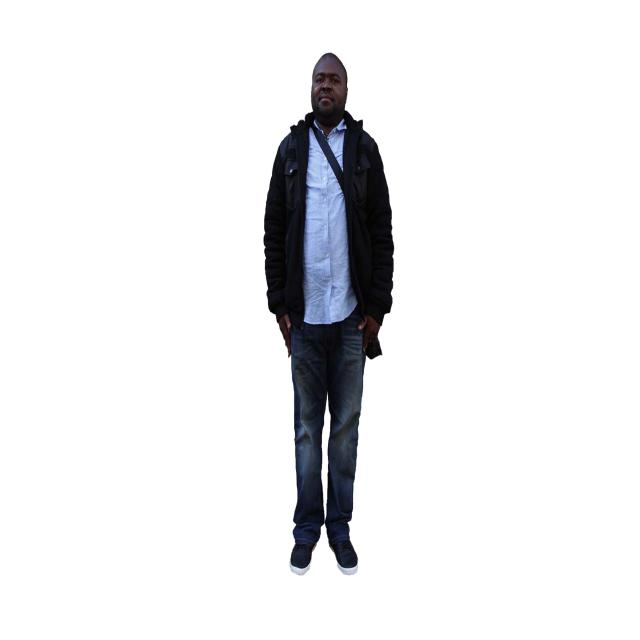jovem: (248, 32, 400, 578)
